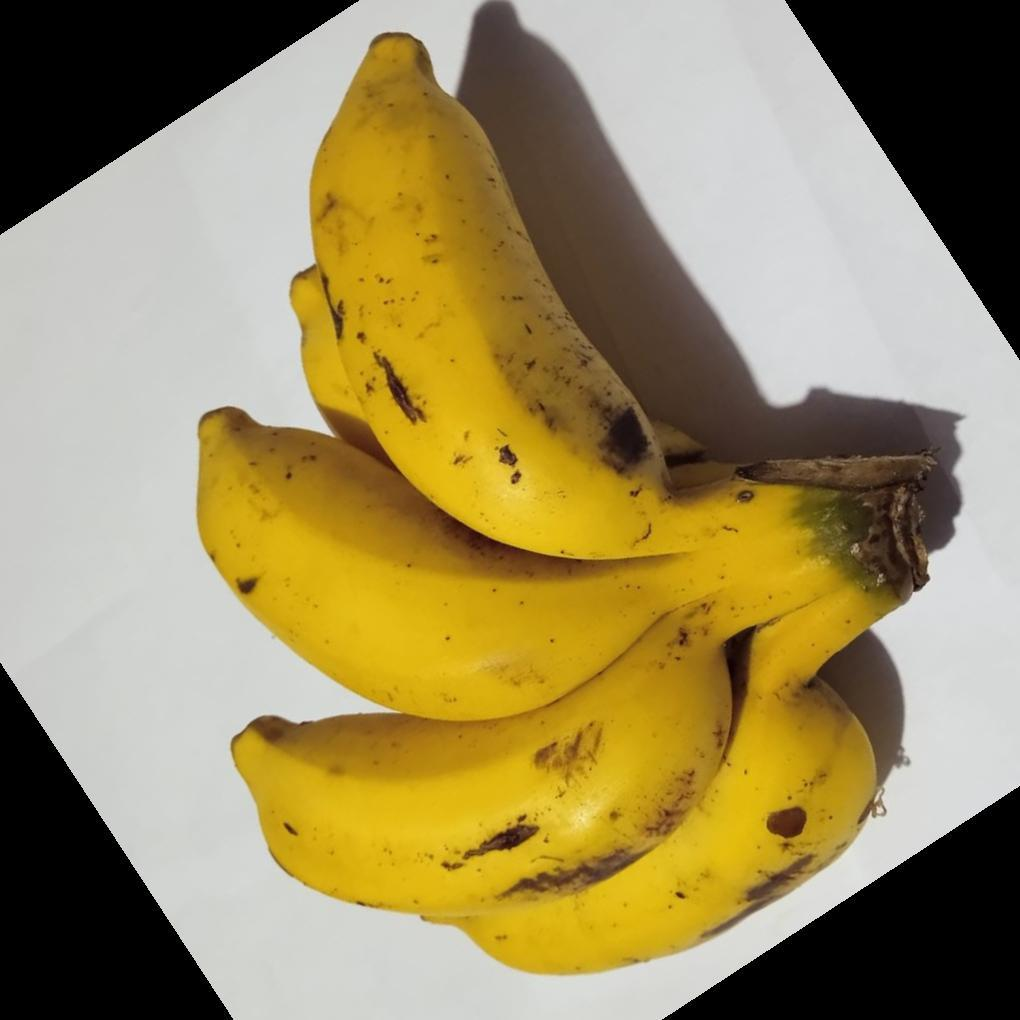Banana Ripe: (178, 29, 1014, 987), (239, 656, 896, 996), (308, 31, 724, 561), (158, 389, 686, 723)
